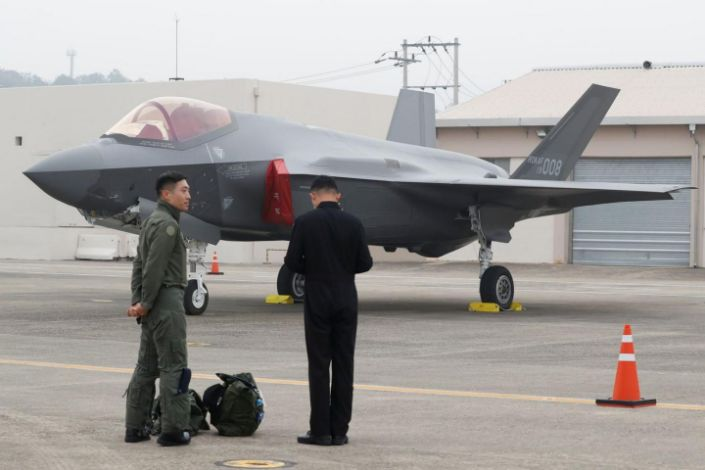F-35 Lightning: (19, 60, 699, 314)
